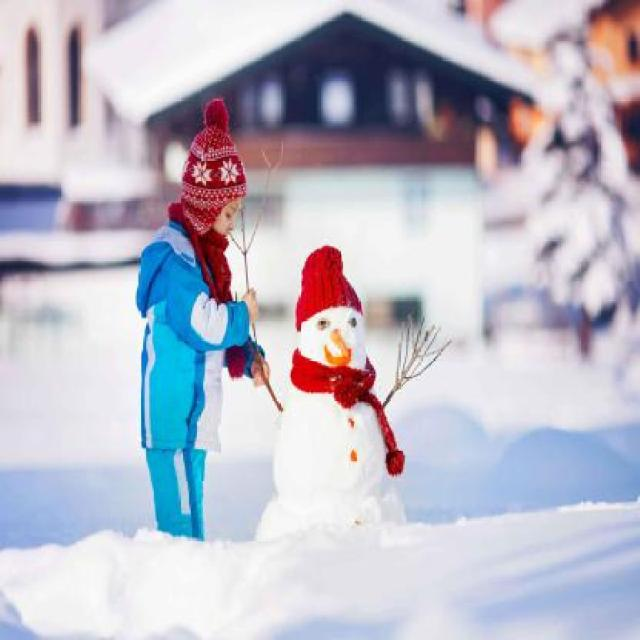Person: (129, 92, 271, 545), (248, 240, 426, 538)
